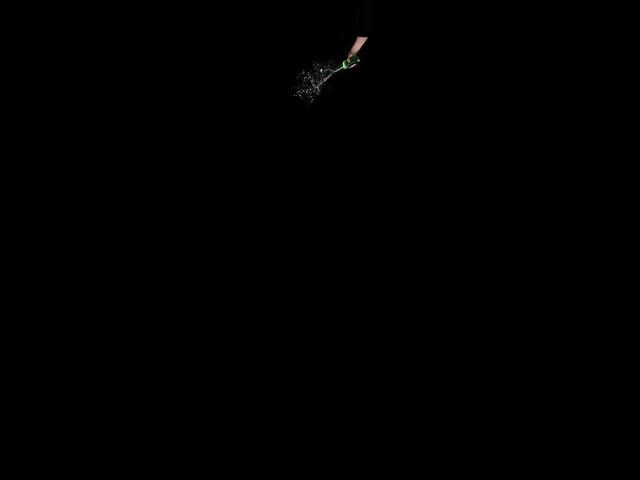beer: (332, 51, 361, 75)
